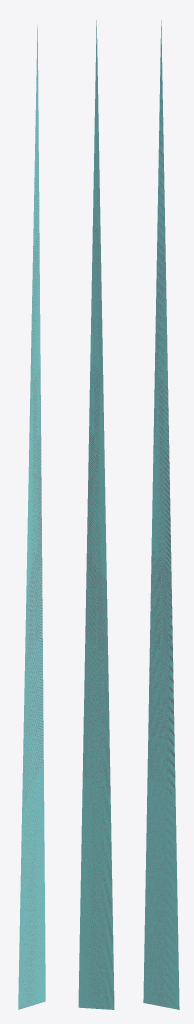
File: 西庸城堡211.dae
The picture shows the model from 3 angles, left to right: view 1: azimuth 30°, elevation 25°; view 2: azimuth 150°, elevation 25°; view 3: azimuth 330°, elevation 25°; orthographic projection.
Visible parts, largest first — view 1: SketchUp; view 2: SketchUp; view 3: SketchUp.
Boxes of the visible parts, <box> form: SketchUp: <box>18,24,45,1009</box>; SketchUp: <box>78,20,114,1009</box>; SketchUp: <box>143,20,179,1009</box>.
Bounding box in the file's own units: 2.7 × 0.746 × 80.68.
